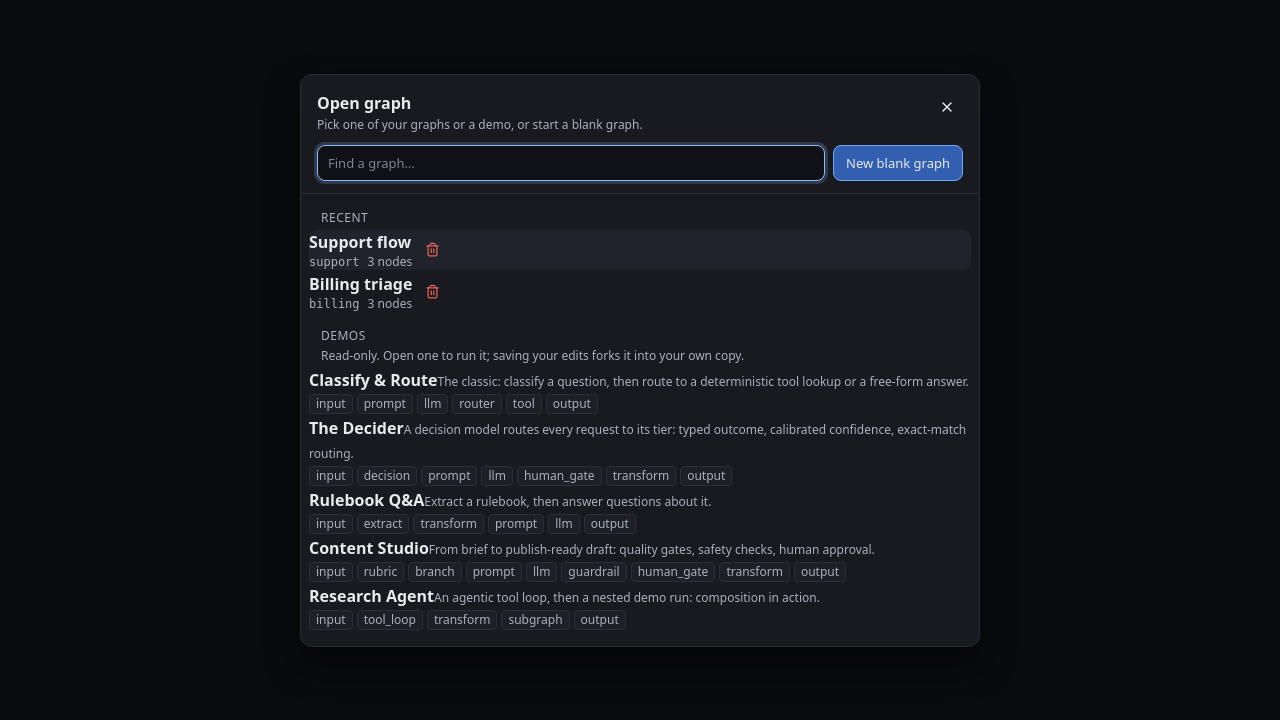
graph picker › filters by name, id or tagline, and says when nothing matches
Expected: the text "Support flow" is shown, [309,230,411,252]
In the search field named "Search graphs": (571, 162) [317,144,825,180], type "billing"
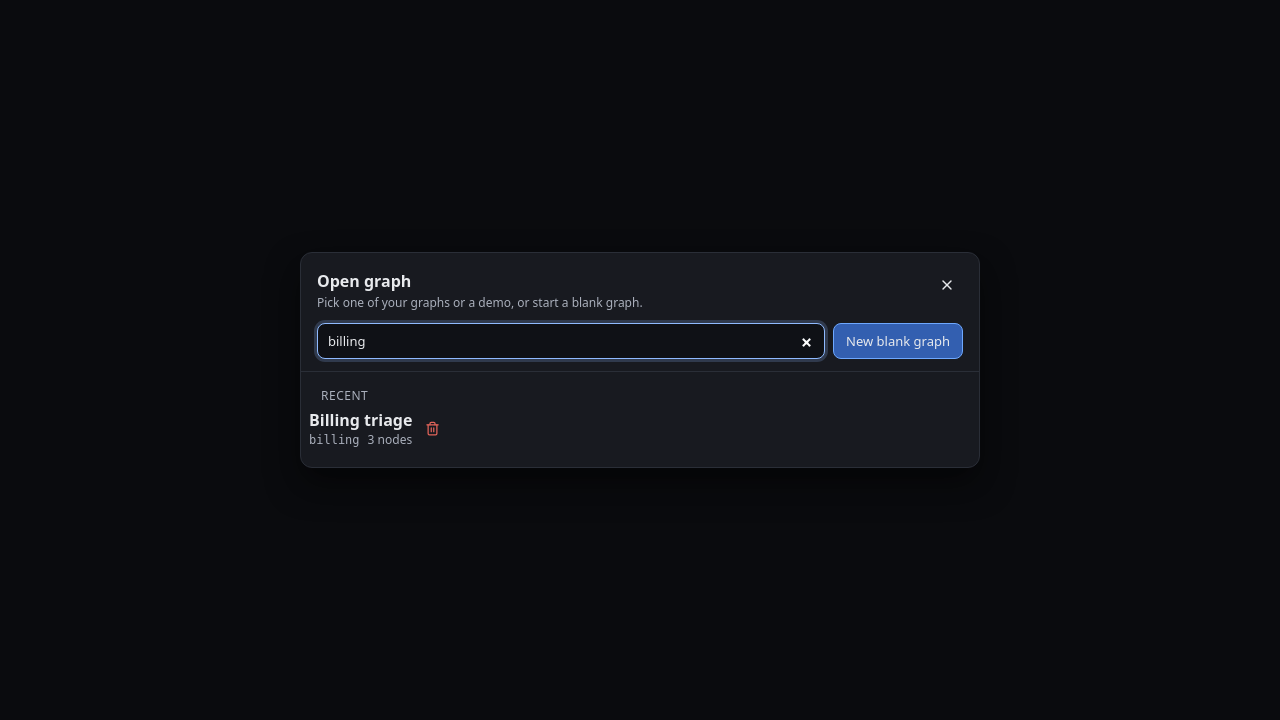
Expected: the text "Billing triage" is shown, [309,409,412,431]
Expected: the link "Support flow" is gone
Replace the text in the search field named "Search graphs" with "zzz-nothing": (571, 341) [317,323,825,359]
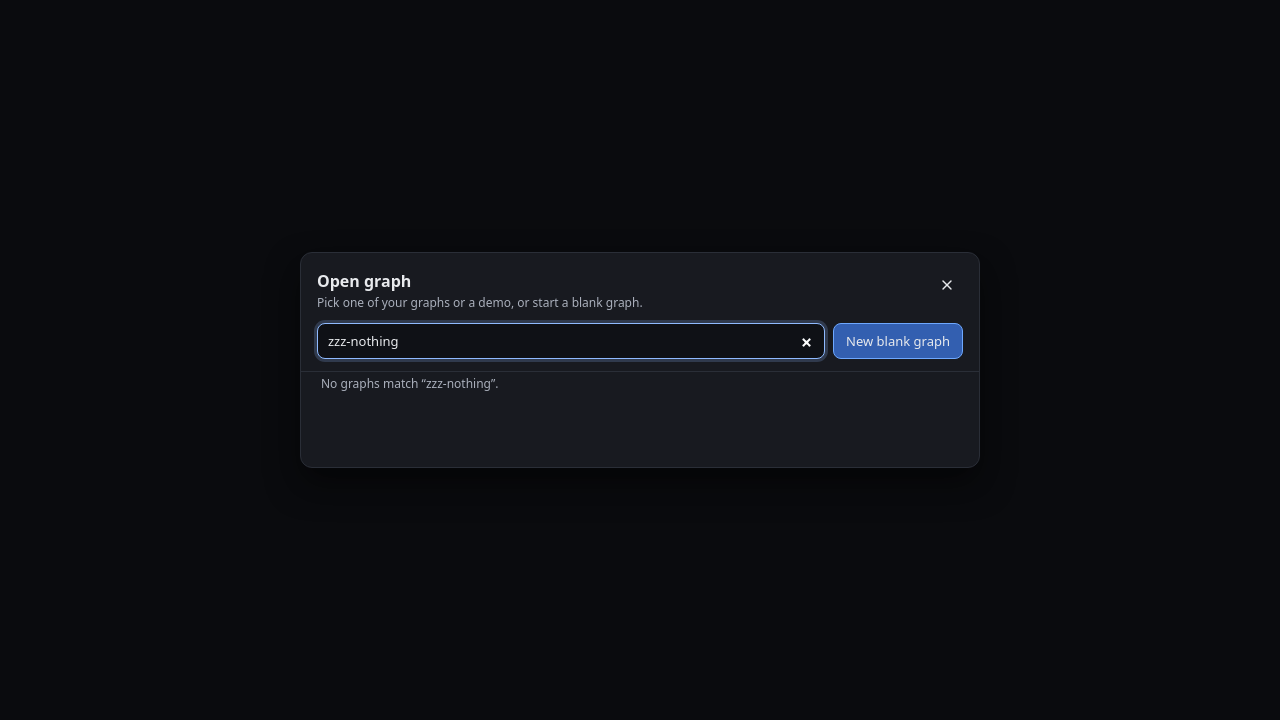
Expected: the message shows "No graphs match", [321,375,426,392]
